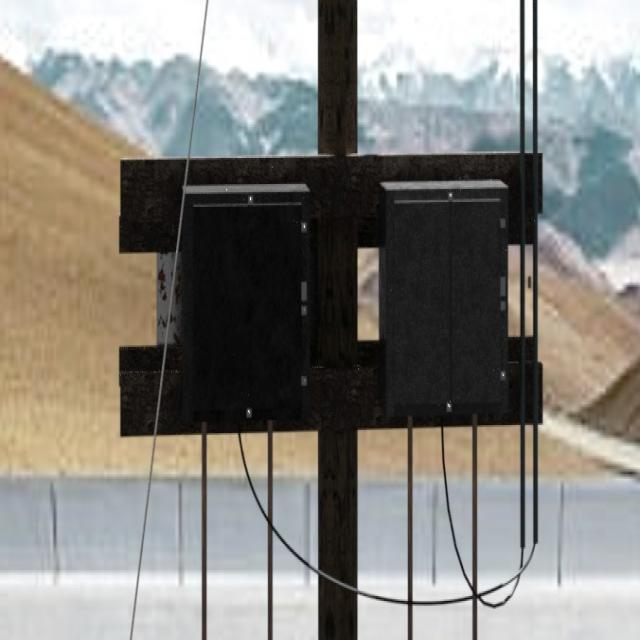crossarm: (122, 157, 535, 244), (123, 370, 545, 435)
pole: (318, 2, 359, 640)
transformer: (170, 169, 313, 435), (379, 181, 514, 428)
wire: (238, 436, 539, 608), (441, 428, 524, 614)
